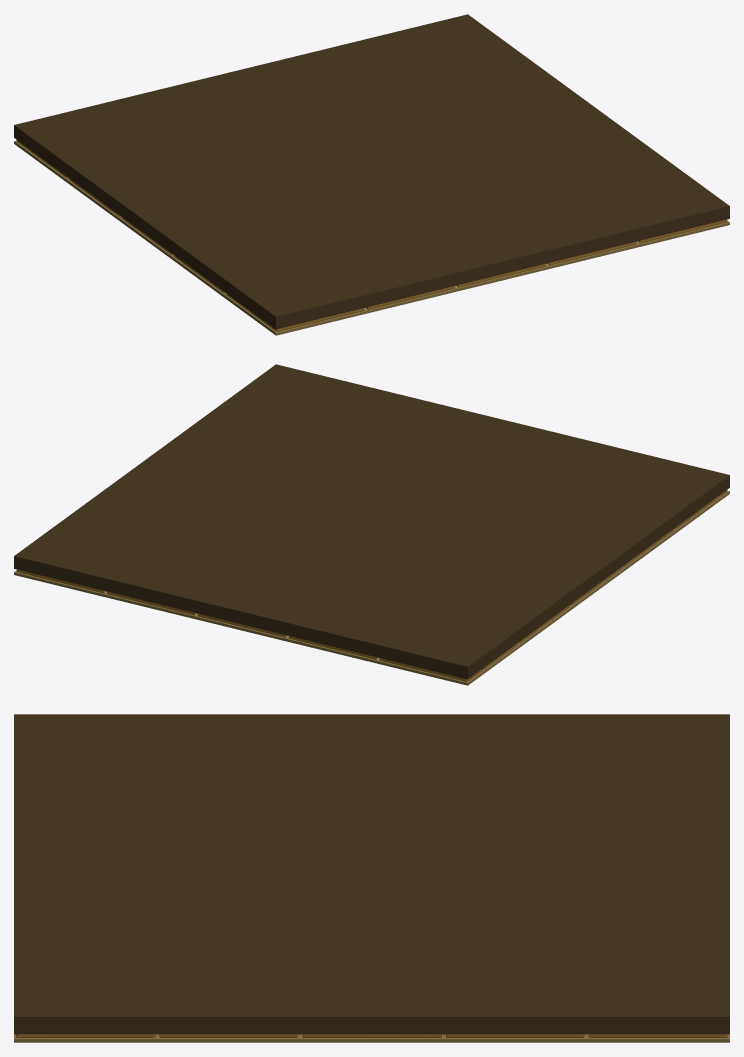
The model's file is office_ceiling_light.glb.
3 views of the same model, one above another, from view 1: azimuth 30°, elevation 25°; view 2: azimuth 150°, elevation 25°; view 3: azimuth 270°, elevation 25° (orthographic). The views are drawn at different scales.
Parts seen in each view (by area): view 1: CeilingBacking, CeilingGrid, CeilingTiles; view 2: CeilingBacking, CeilingGrid, CeilingTiles; view 3: CeilingBacking, CeilingGrid, CeilingTiles.
Boxes of the visible parts, x1,y1,x2,y2 form: CeilingBacking: (14, 14, 729, 329); CeilingGrid: (14, 140, 729, 335); CeilingTiles: (16, 140, 727, 331); CeilingBacking: (14, 364, 729, 679); CeilingGrid: (14, 490, 729, 685); CeilingTiles: (16, 490, 727, 681); CeilingBacking: (14, 714, 729, 1034); CeilingGrid: (14, 1034, 729, 1042); CeilingTiles: (16, 1034, 727, 1037).
Size of what is drawn, in the model's own units: 3 by 0.128 by 3.
5 materials, 1 textured.
